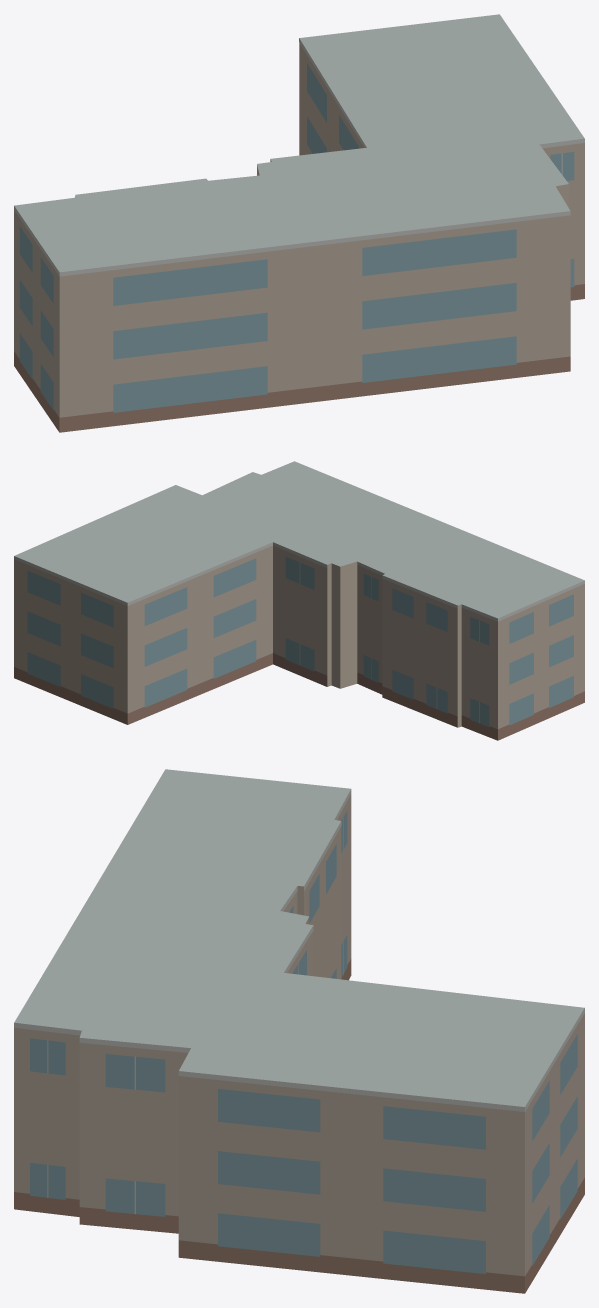
Rendered from survey-upis-32806029.glb.
3 views of the same model, one above another, from view 1: azimuth 30°, elevation 25°; view 2: azimuth 150°, elevation 25°; view 3: azimuth 270°, elevation 25° (orthographic). The views are drawn at different scales.
Parts seen in each view (by area): view 1: survey-upis-32806029.tmp; view 2: survey-upis-32806029.tmp; view 3: survey-upis-32806029.tmp.
Part boxes in pixels (left/top/right/bottom): survey-upis-32806029.tmp: left=14, top=14, right=584, bottom=432; survey-upis-32806029.tmp: left=14, top=461, right=584, bottom=740; survey-upis-32806029.tmp: left=14, top=769, right=584, bottom=1293.
Bounding box in the file's own units: 35.53 × 9.15 × 25.37.
